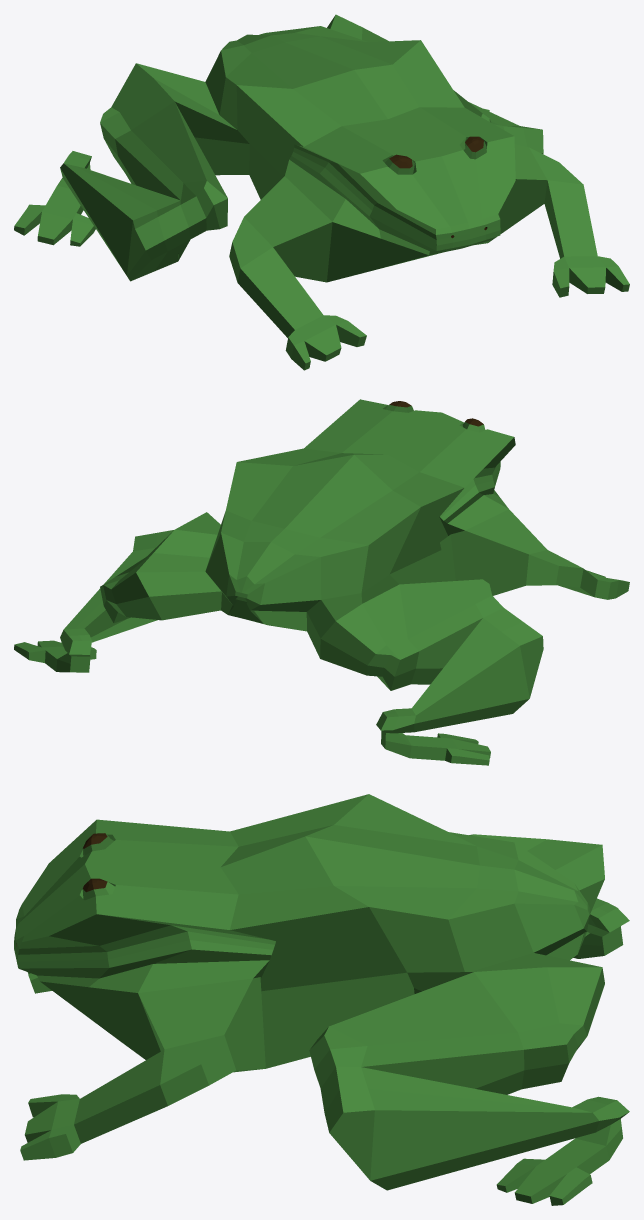
The model's file is Frog.fbx.
The picture shows the model from 3 angles, top to bottom: view 1: azimuth 30°, elevation 25°; view 2: azimuth 150°, elevation 25°; view 3: azimuth 270°, elevation 25°; orthographic projection. The views are drawn at different scales.
Visible parts, largest first — view 1: Cube; view 2: Cube; view 3: Cube.
Part boxes in pixels (x1,y1,x2,y2): Cube: (14,14,629,370); Cube: (14,399,629,765); Cube: (14,794,629,1205).
Size of the model in its own units: 502 by 190 by 448.
